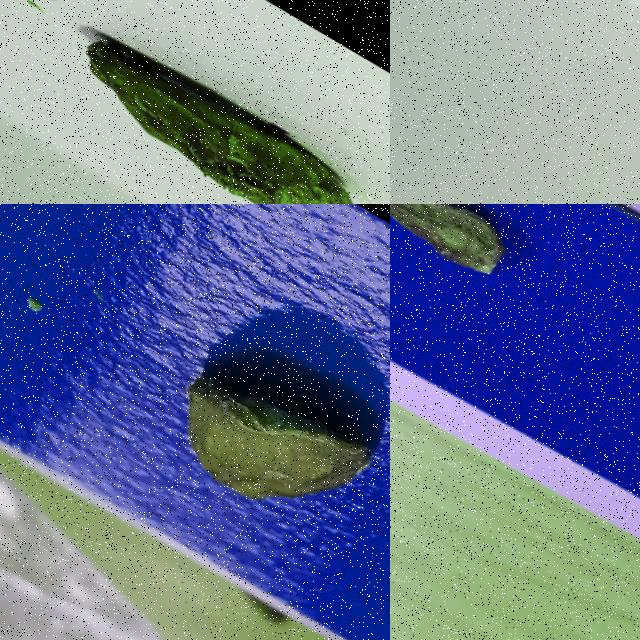Flat_cocoabeans: (43, 205, 389, 638), (0, 0, 389, 203), (390, 204, 625, 373), (390, 0, 639, 64)
